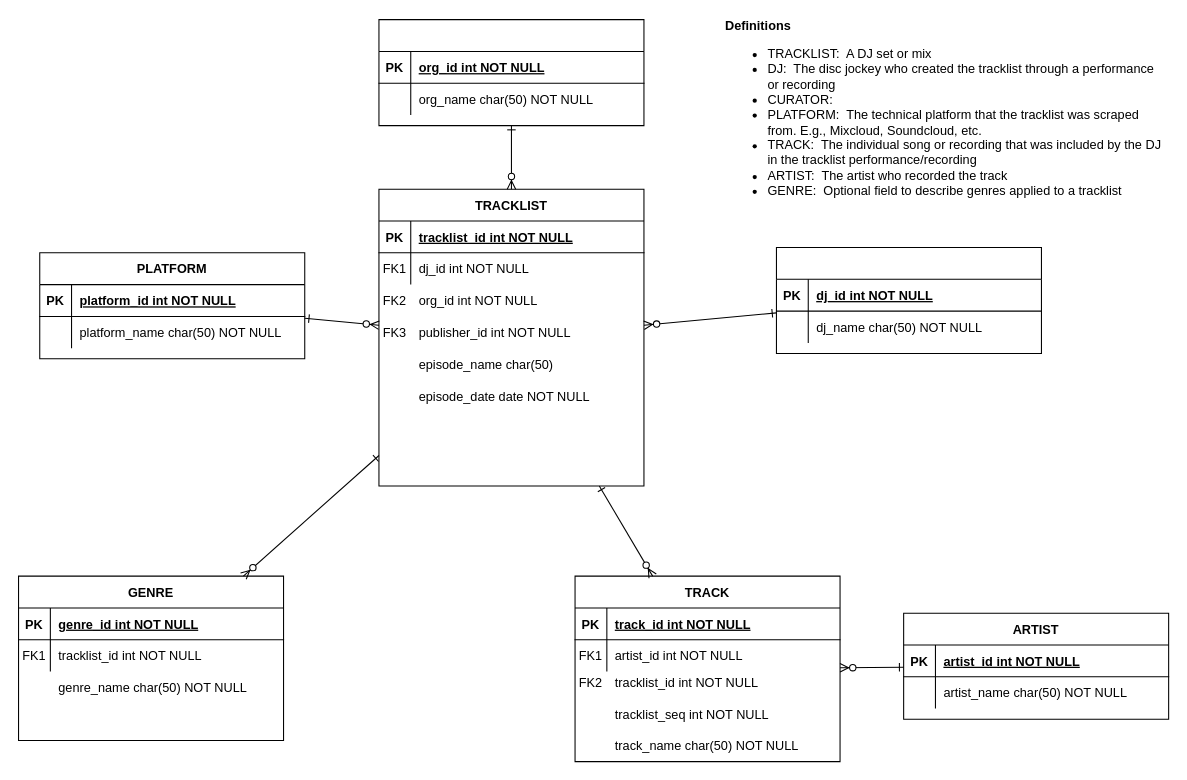
The diagram is 1187 pixels wide and 780 high, and some of its shapes have lost their labels. Here are the shapes that lost their labels. From the top down, the box of each, then its label:
(378, 19, 644, 126): ORGANIZATION
(775, 246, 1041, 354): DJ
